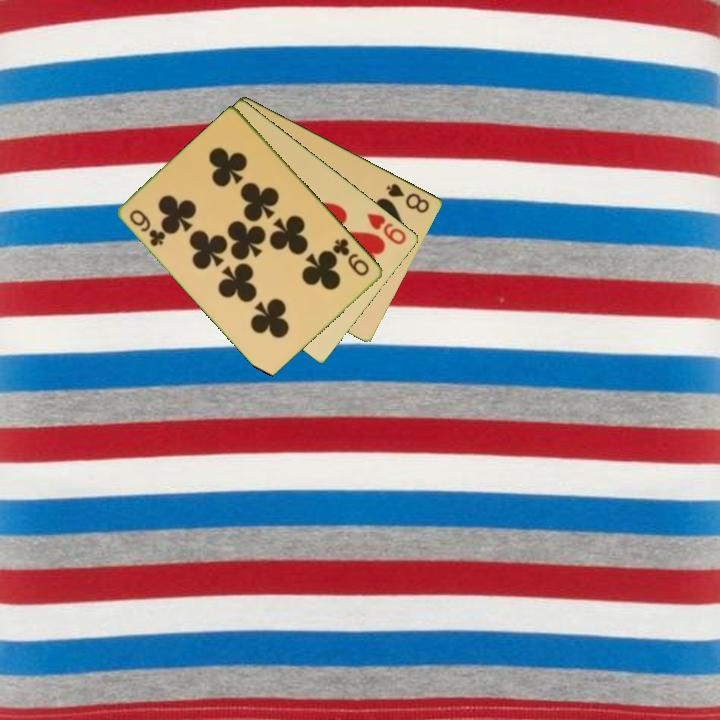8s: (383, 180, 433, 216)
9c: (329, 235, 373, 279), (126, 206, 169, 250)
9h: (363, 209, 410, 248)
